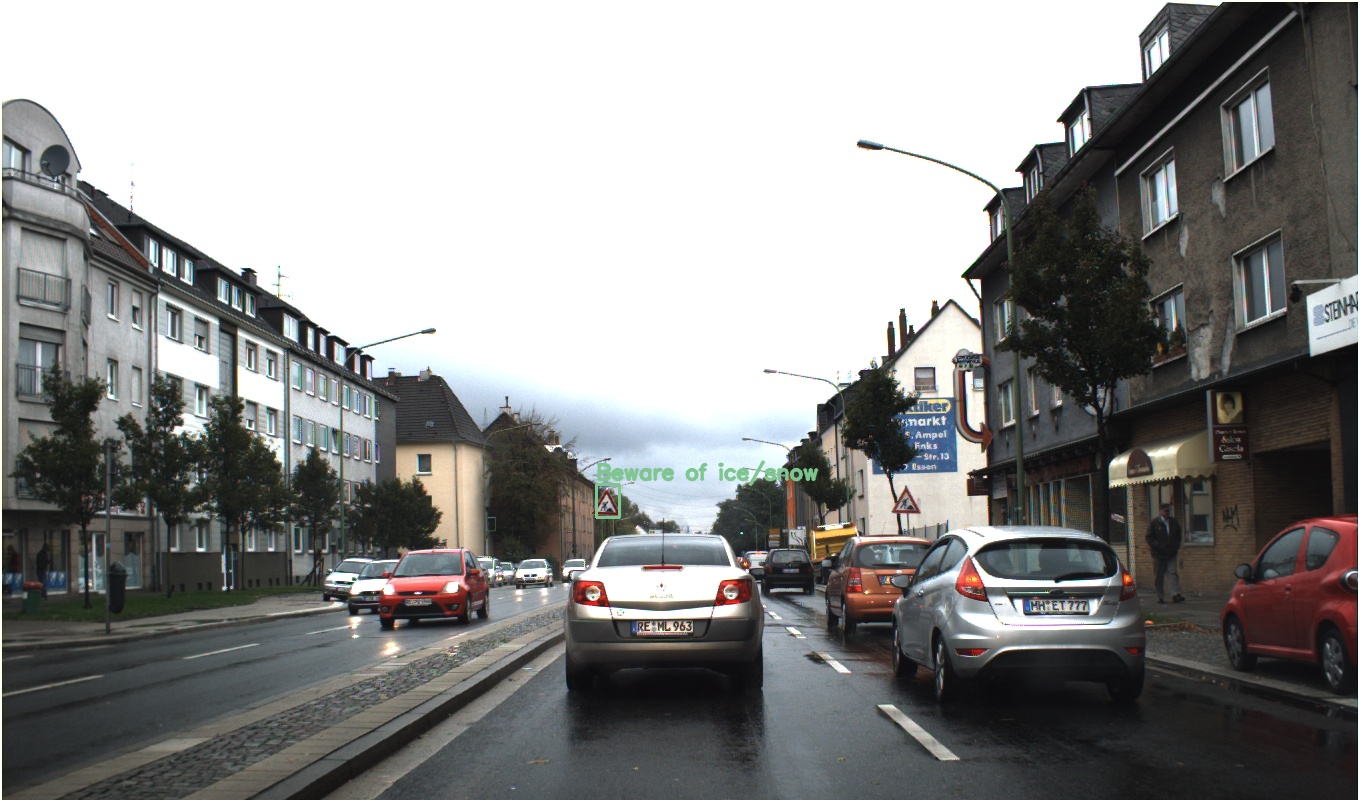Speed limit (80km/h): (1025, 438, 1054, 468), (634, 447, 660, 474)
